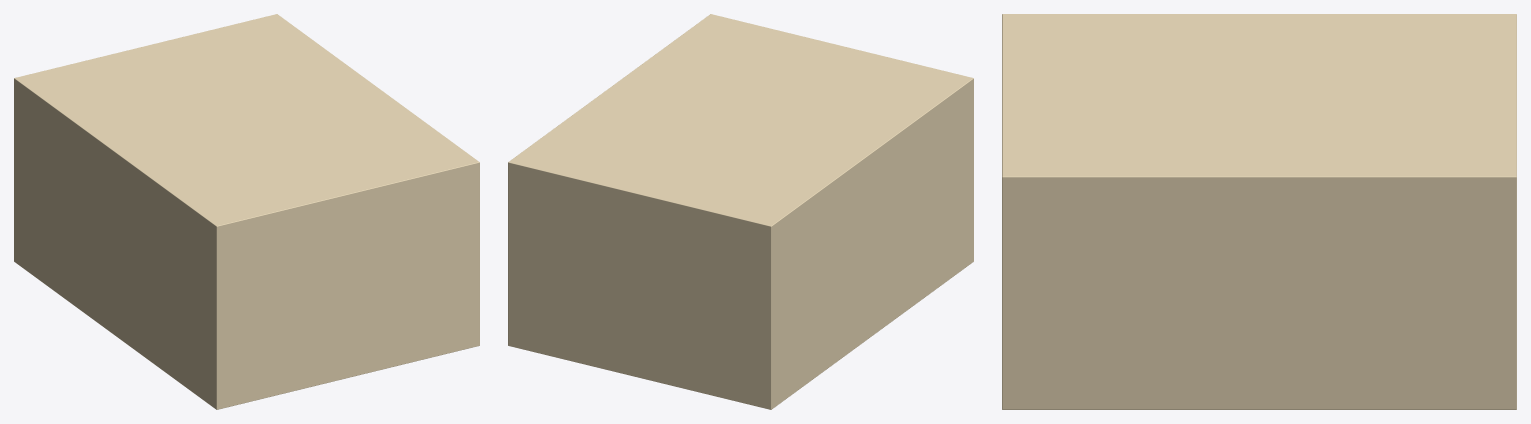
File: Body.dae
3 renders of one model, left to right at view 1: azimuth 30°, elevation 25°; view 2: azimuth 150°, elevation 25°; view 3: azimuth 270°, elevation 25°, orthographic. The views are drawn at different scales.
Visible parts, largest first — view 1: tmp_export_Body; view 2: tmp_export_Body; view 3: tmp_export_Body.
Boxes of the visible parts, x1,y1,x2,y2 form: tmp_export_Body: [14, 14, 479, 409]; tmp_export_Body: [508, 14, 973, 409]; tmp_export_Body: [1002, 14, 1516, 409].
Size of the model in its own units: 0.6 by 0.8 by 0.4.
